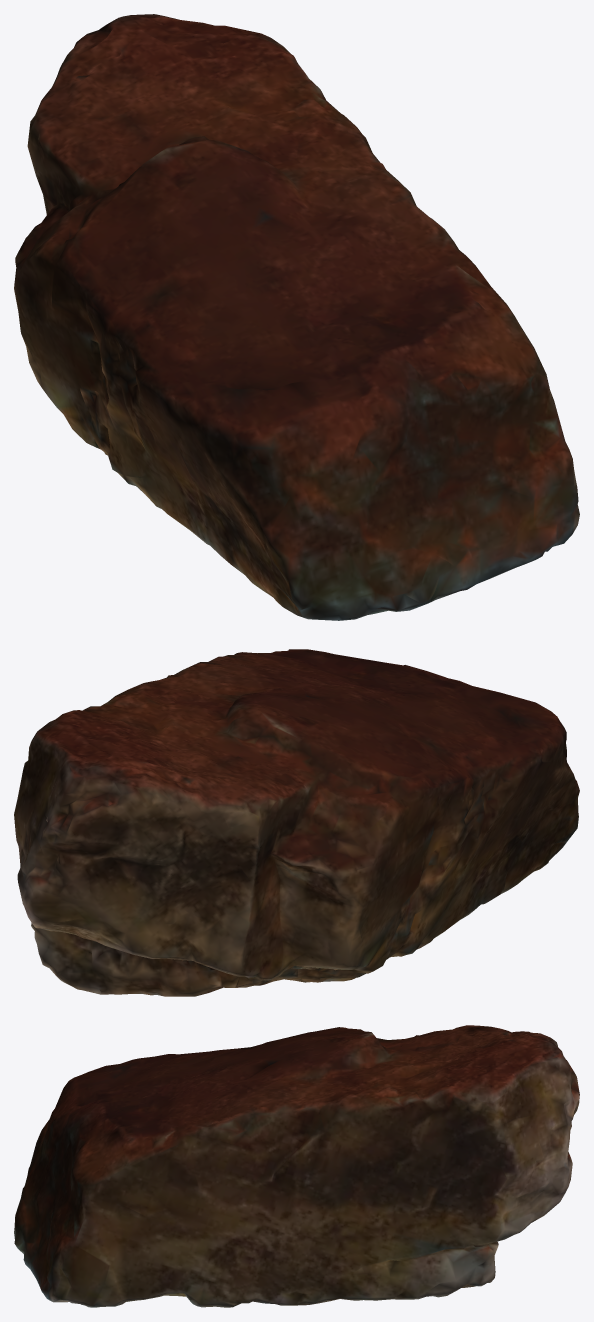
Rendered from rock_07.glb.
The picture shows the model from 3 angles, top to bottom: view 1: azimuth 30°, elevation 25°; view 2: azimuth 150°, elevation 25°; view 3: azimuth 270°, elevation 25°; orthographic projection. The views are drawn at different scales.
Visible parts, largest first — view 1: rock_07; view 2: rock_07; view 3: rock_07.
Part boxes in pixels (<box>): rock_07: <box>14,14,579,620</box>; rock_07: <box>14,649,579,996</box>; rock_07: <box>14,1025,579,1307</box>.
Bounding box in the file's own units: 0.1686 × 0.1437 × 0.3202.
1 material, 1 textured.
